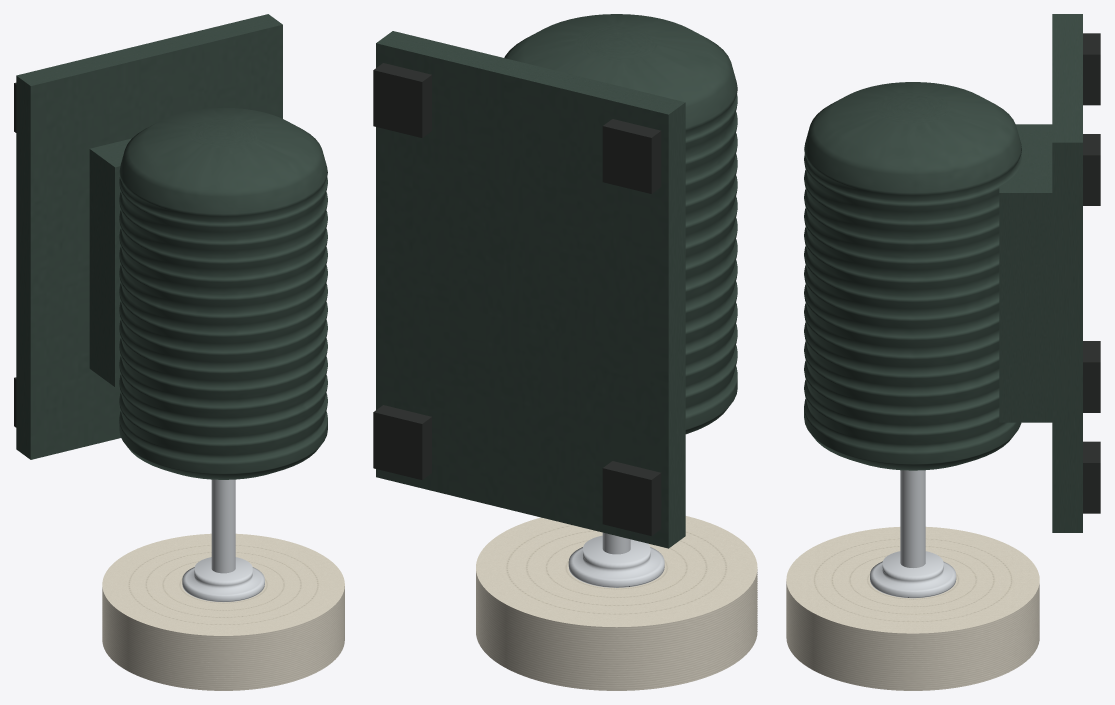
File: pulitrice.glb
3 renders of one model, left to right at view 1: azimuth 30°, elevation 25°; view 2: azimuth 150°, elevation 25°; view 3: azimuth 270°, elevation 25°, orthographic. The views are drawn at different scales.
Parts seen in each view (by area): view 1: Motore, Base, Disco, Supporto_motore, Mozzo, Albero; view 2: Base, Disco, Motore, Piedino_3, Piedino_1, Piedino_2, Piedino_4, Mozzo; view 3: Motore, Disco, Base, Supporto_motore, Mozzo, Albero, Piedino_2, Piedino_3, Piedino_1, Piedino_4.
Part boxes in pixels (x1,y1,x2,y2): Motore: [119, 107, 327, 479]; Base: [16, 14, 282, 459]; Disco: [102, 533, 344, 690]; Supporto_motore: [89, 138, 131, 387]; Mozzo: [182, 557, 264, 602]; Albero: [211, 479, 235, 573]; Base: [376, 31, 685, 548]; Disco: [476, 516, 757, 690]; Motore: [504, 14, 737, 434]; Piedino_3: [602, 119, 661, 193]; Piedino_1: [602, 461, 661, 535]; Piedino_2: [373, 405, 431, 479]; Piedino_4: [373, 63, 431, 137]; Mozzo: [568, 535, 664, 587]; Motore: [804, 82, 1021, 470]; Disco: [786, 526, 1039, 690]; Base: [1052, 14, 1082, 532]; Supporto_motore: [999, 124, 1052, 422]; Mozzo: [870, 551, 956, 598]; Albero: [900, 470, 925, 567]; Piedino_2: [1083, 441, 1100, 513]; Piedino_3: [1083, 33, 1100, 105]; Piedino_1: [1083, 341, 1100, 412]; Piedino_4: [1083, 134, 1100, 205].
Bounding box in the file's own units: 0.12 × 0.251 × 0.124.
Materials: 5 (3 with a texture image).
